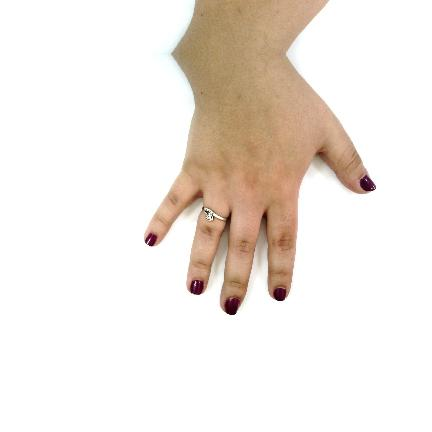Nail: (360, 174, 376, 191), (225, 298, 239, 315), (190, 279, 204, 295), (273, 288, 286, 301), (145, 233, 157, 247)
